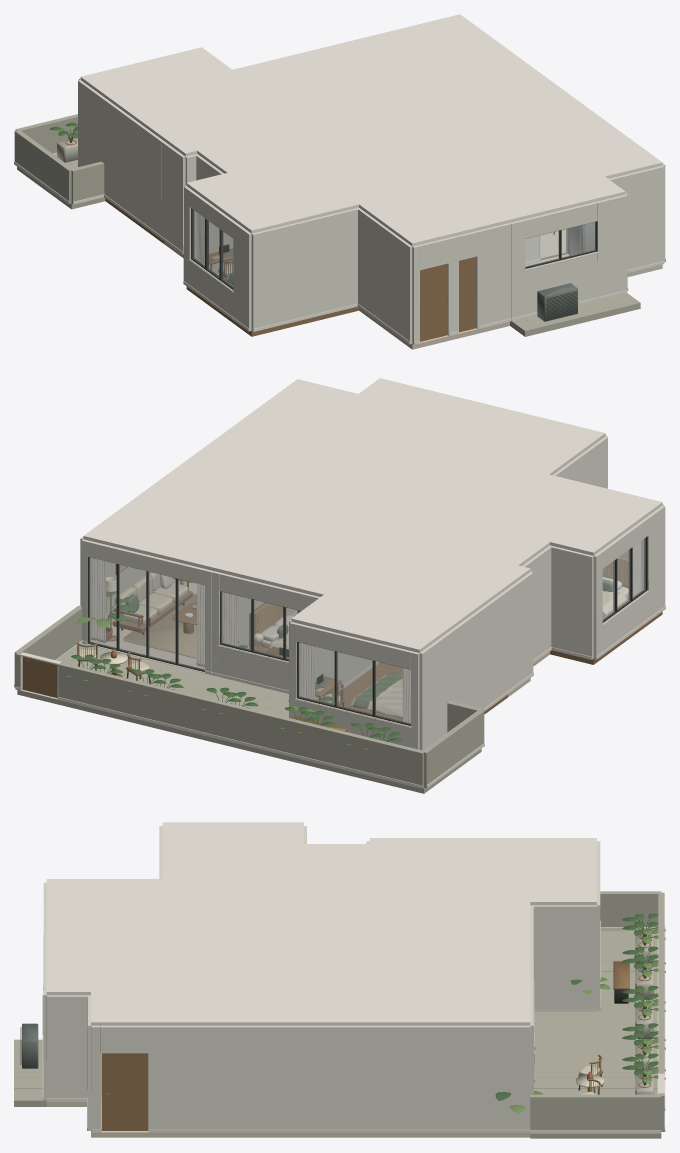
File: house.glb
3 renders of one model, top to bottom at view 1: azimuth 30°, elevation 25°; view 2: azimuth 150°, elevation 25°; view 3: azimuth 270°, elevation 25°, orthographic. The views are drawn at different scales.
Parts seen in each view (by area): view 1: ceiling__CP_Trim, full__CP_Plaster, cutaway__CP_Plaster, cutaway__CP_Outdoor_Tile, full__CP_Glass, full__CP_Wood_Z, shared__CP_Outdoor_Tile, shared__CP_Trim, shared__CP_Appliance, full__CP_Outdoor_Tile, full__CP_Dark_Metal, shared__CP_Wood_X (+4 smaller); view 2: ceiling__CP_Trim, full__CP_Plaster, full__CP_Glass, cutaway__CP_Outdoor_Tile, cutaway__CP_Plaster, full__CP_Outdoor_Tile, shared__CP_Outdoor_Tile, full__CP_Dark_Metal, full__CP_Fabric_Light, shared__CP_Fabric, shared__CP_Wood_X, shared__CP_Trim (+7 smaller); view 3: ceiling__CP_Trim, full__CP_Plaster, cutaway__CP_Plaster, shared__CP_Outdoor_Tile, cutaway__CP_Outdoor_Tile, full__CP_Outdoor_Tile, full__CP_Wood_Z, shared__CP_Trim, shared__CP_Floor_Stone, shared__CP_Leaf, shared__CP_Leaf_Light, shared__CP_Appliance (+2 smaller).
Part boxes in pixels (<box>): ceiling__CP_Trim: <box>80,14,662,246</box>; full__CP_Plaster: <box>78,78,665,344</box>; cutaway__CP_Plaster: <box>78,140,665,344</box>; cutaway__CP_Outdoor_Tile: <box>14,114,104,204</box>; full__CP_Glass: <box>193,210,595,286</box>; full__CP_Wood_Z: <box>420,228,569,340</box>; shared__CP_Outdoor_Tile: <box>17,138,640,336</box>; shared__CP_Trim: <box>14,152,665,344</box>; shared__CP_Appliance: <box>219,222,594,321</box>; full__CP_Outdoor_Tile: <box>15,115,104,203</box>; full__CP_Dark_Metal: <box>191,208,597,289</box>; shared__CP_Wood_X: <box>105,198,358,336</box>; ceiling__CP_Trim: <box>83,378,662,652</box>; full__CP_Plaster: <box>80,435,665,750</box>; full__CP_Glass: <box>89,538,645,723</box>; cutaway__CP_Outdoor_Tile: <box>14,605,484,788</box>; cutaway__CP_Plaster: <box>80,564,657,750</box>; full__CP_Outdoor_Tile: <box>14,609,483,787</box>; shared__CP_Outdoor_Tile: <box>17,643,481,793</box>; full__CP_Dark_Metal: <box>87,536,647,725</box>; full__CP_Fabric_Light: <box>91,541,641,723</box>; shared__CP_Fabric: <box>79,572,627,718</box>; shared__CP_Wood_X: <box>77,556,662,731</box>; shared__CP_Trim: <box>14,578,665,788</box>; ceiling__CP_Trim: <box>46,822,596,1025</box>; full__CP_Plaster: <box>43,826,600,1129</box>; cutaway__CP_Plaster: <box>43,969,600,1130</box>; shared__CP_Outdoor_Tile: <box>14,930,661,1138</box>; cutaway__CP_Outdoor_Tile: <box>530,891,664,1131</box>; full__CP_Outdoor_Tile: <box>530,891,664,1131</box>; full__CP_Wood_Z: <box>102,1053,148,1129</box>; shared__CP_Trim: <box>42,926,665,1133</box>; shared__CP_Floor_Stone: <box>46,1102,530,1137</box>; shared__CP_Leaf: <box>495,913,658,1100</box>; shared__CP_Leaf_Light: <box>509,921,665,1113</box>; shared__CP_Appliance: <box>22,1023,38,1068</box>.
Size of the model in its own units: 11.99 by 3.03 by 15.55.
